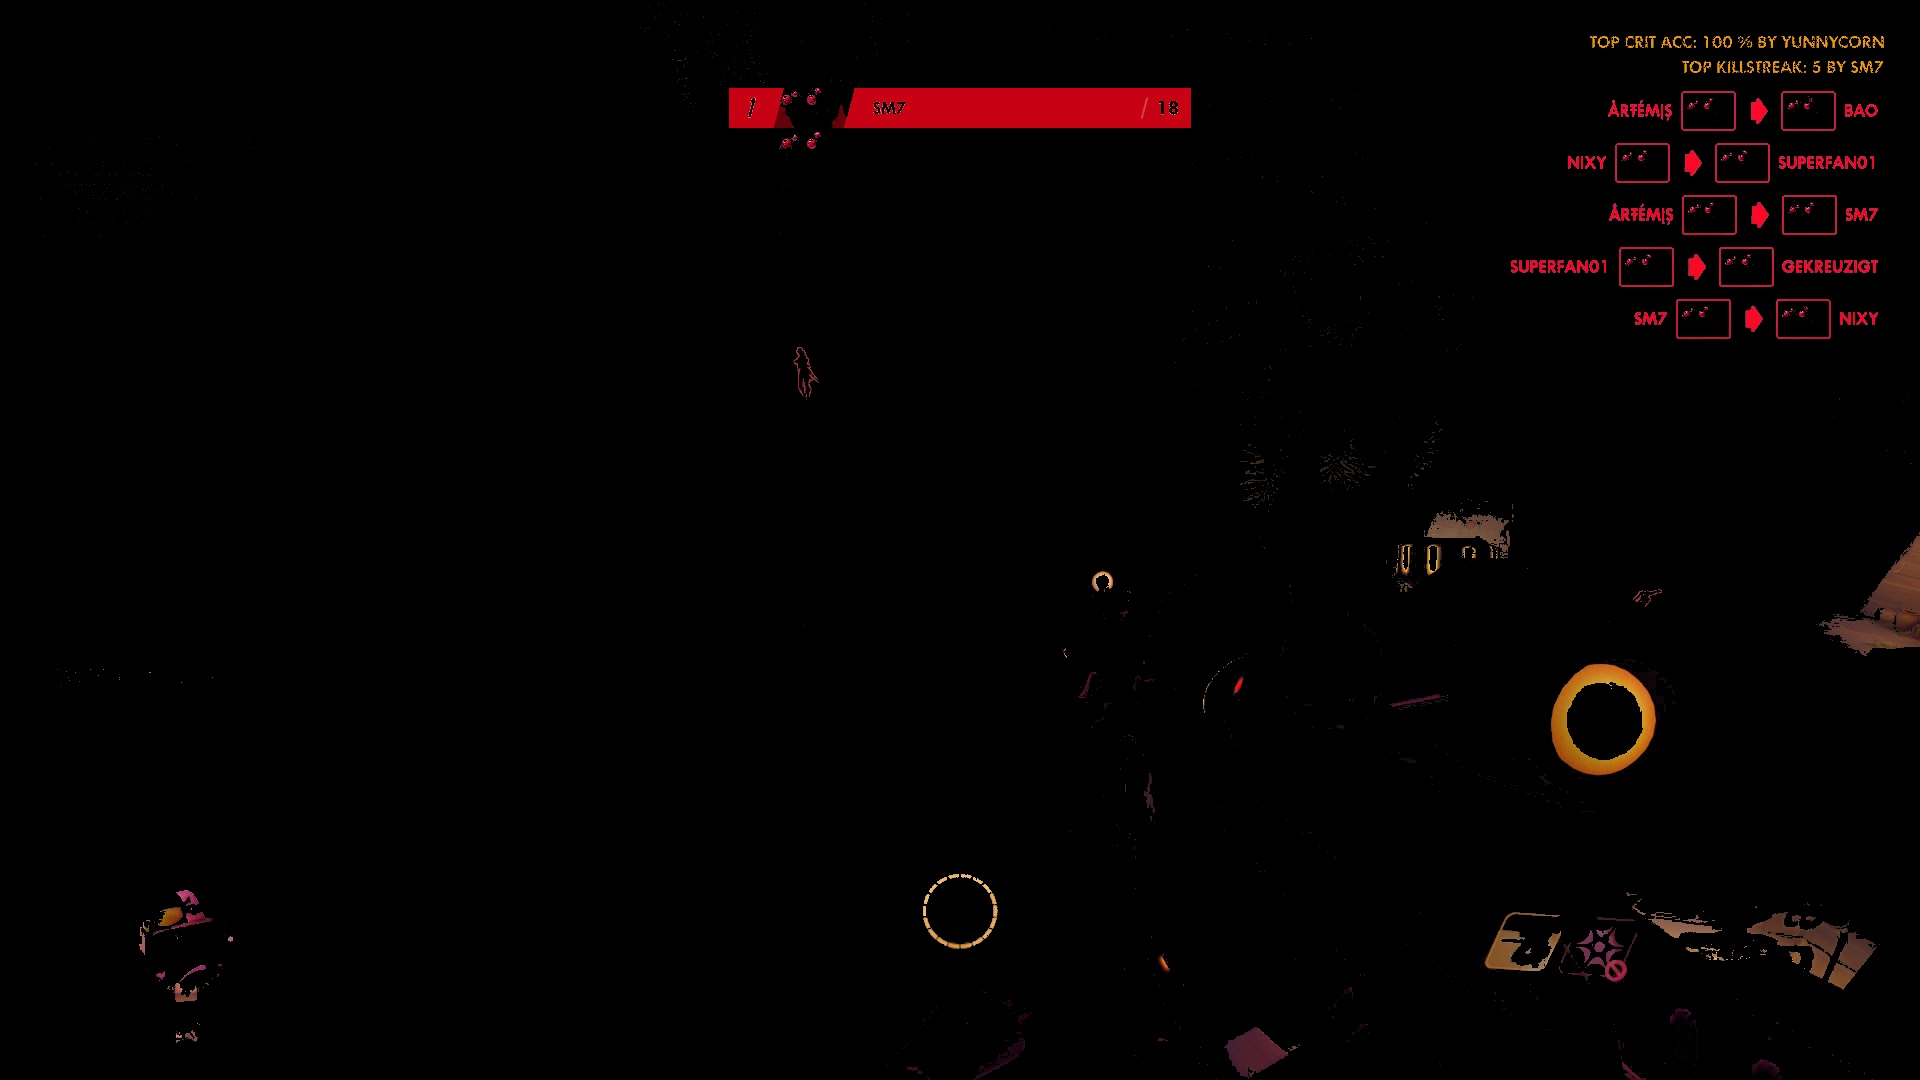widowmaker: (785, 343, 823, 410), (1633, 587, 1662, 608)
